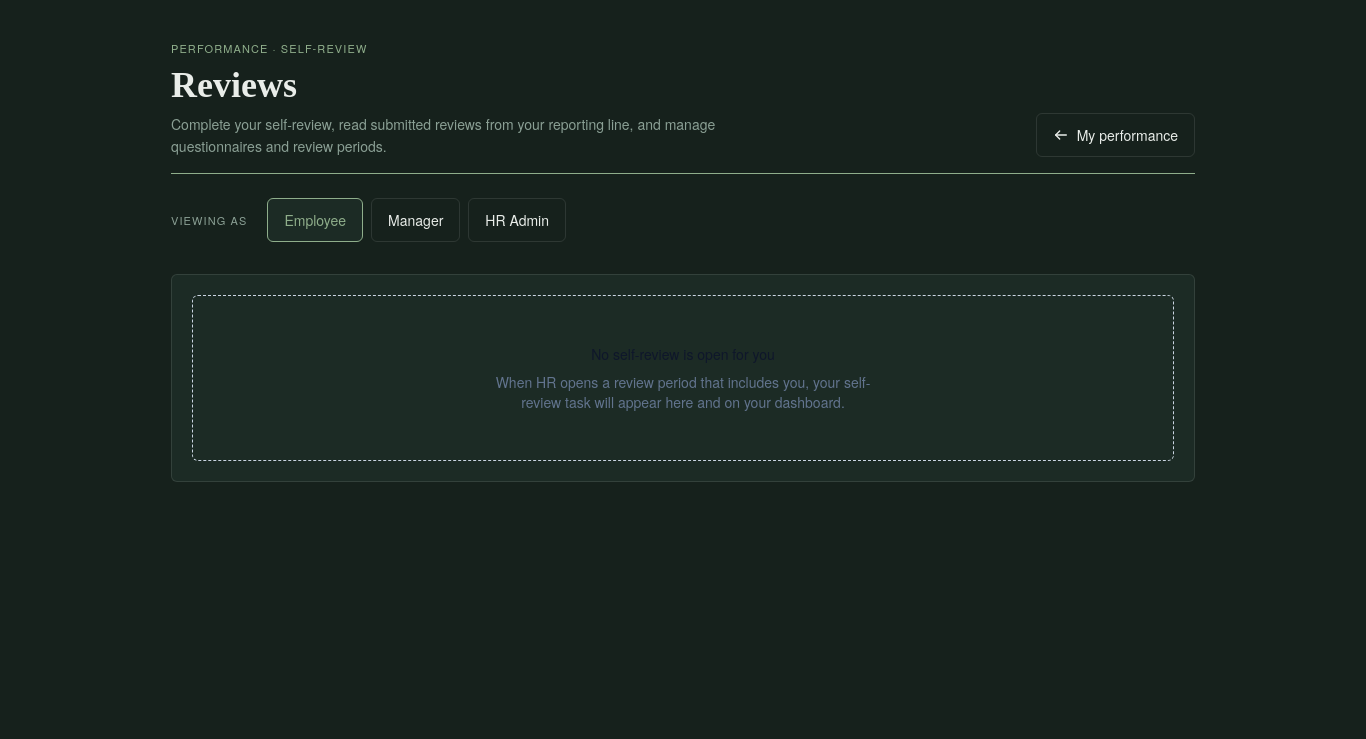
Review periods › [AC-066] the tracker reads the status endpoint and marks outstanding people overdue
What coordinates should you click on to do the following:
click the tab "HR Admin"
I would click on:
 (517, 220)
Its box is [468, 198, 566, 242].
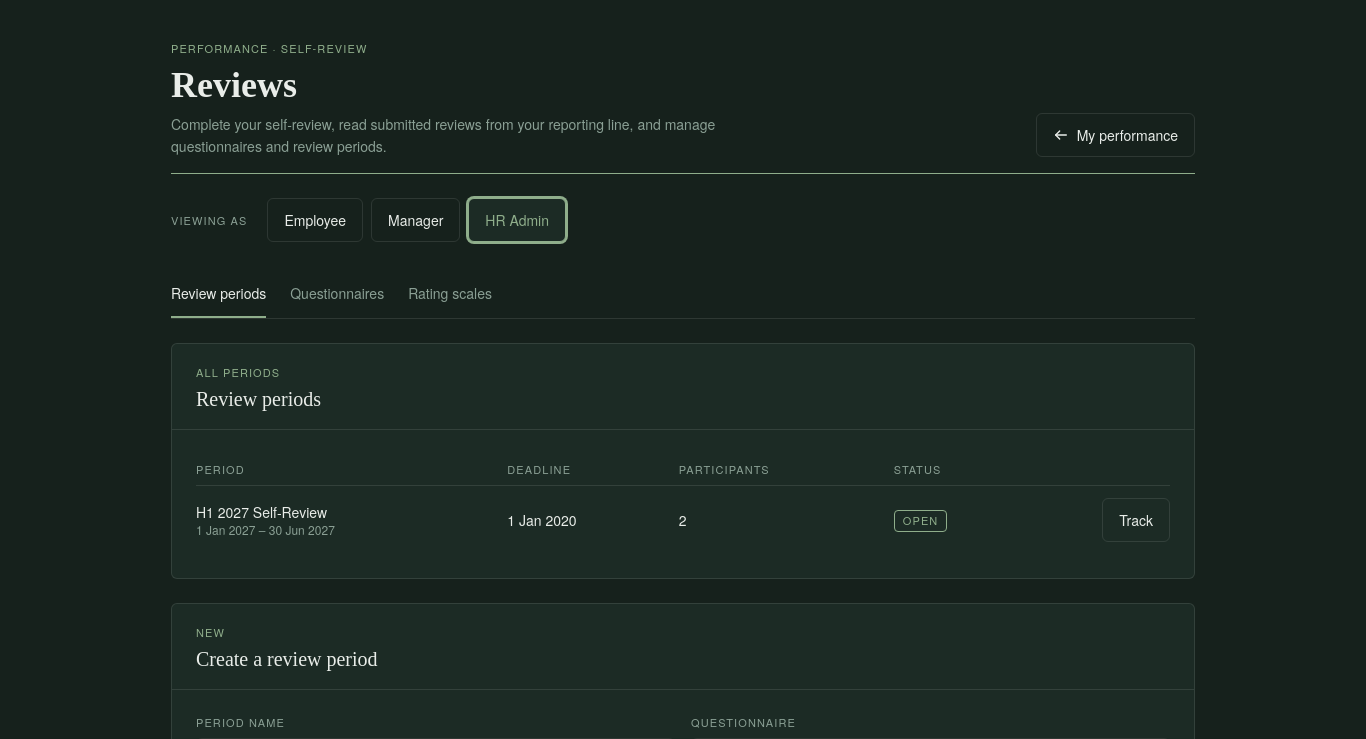
What coordinates should you click on to do the following:
click the button "Track"
I would click on:
 (1136, 520)
Its box is [1102, 498, 1170, 542].
(page scrolled)
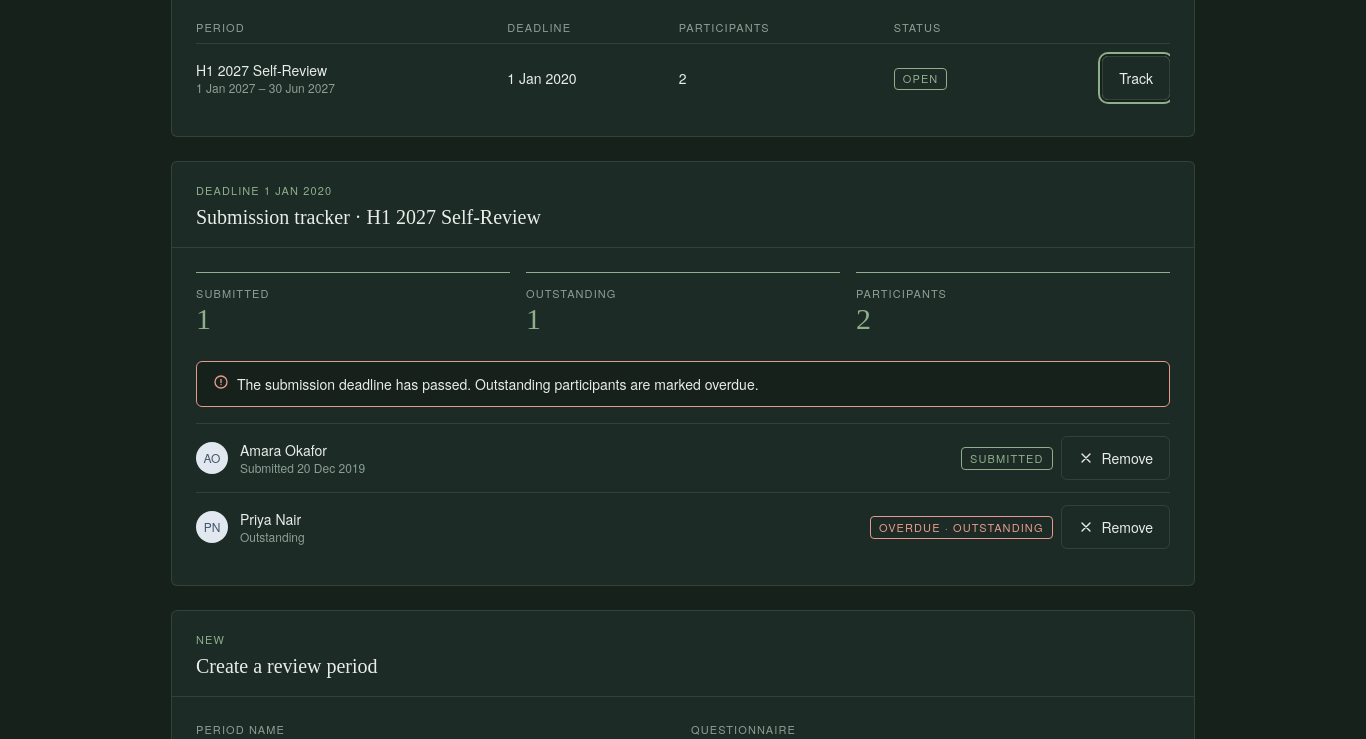
Expected: the text "Submitted 20 Dec 2019" is shown, [240, 460, 365, 476]
Expected: the text "Overdue · outstanding" is shown, [870, 516, 1053, 539]
Expected: the text "The submission deadline has passed" is shown, [237, 374, 759, 394]
